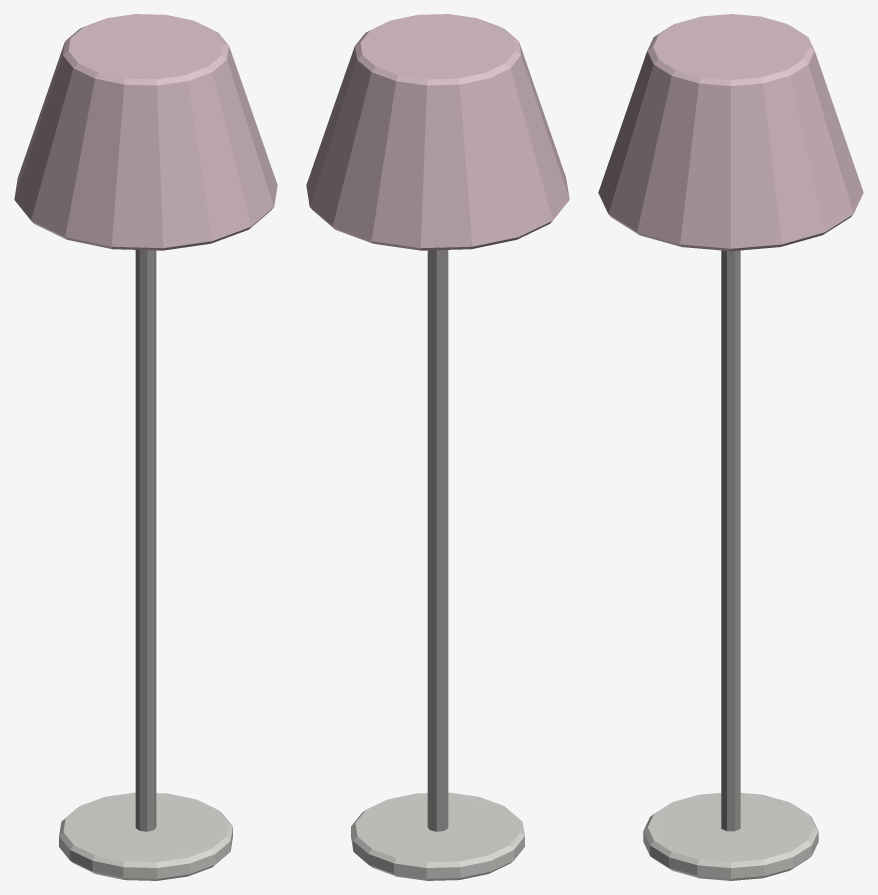
Rendered from furn_floor_lamp__pink.glb.
3 views of the same model, side by side, from view 1: azimuth 30°, elevation 25°; view 2: azimuth 150°, elevation 25°; view 3: azimuth 270°, elevation 25° (orthographic).
Size of the model in its own units: 0.515 by 1.71 by 0.515.
